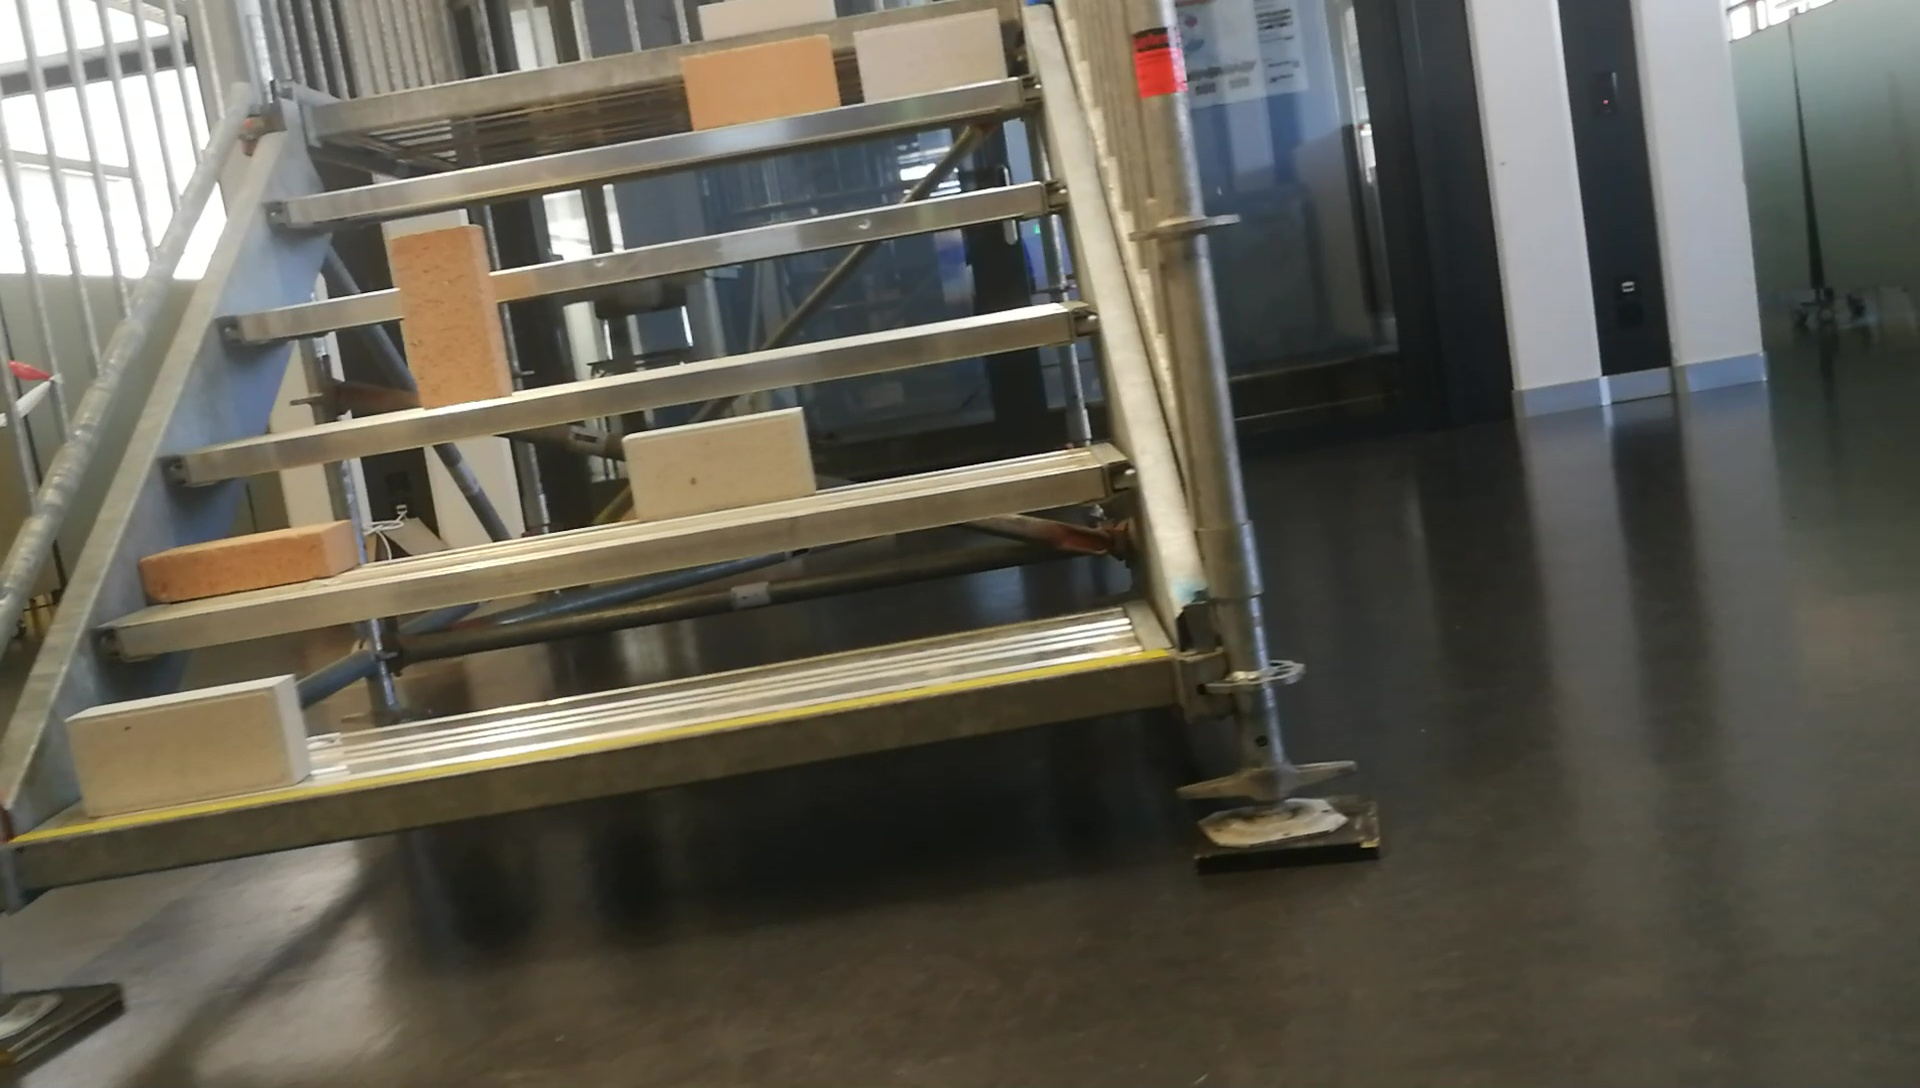brick: (67, 673, 313, 818), (392, 226, 514, 410), (622, 404, 810, 524), (142, 522, 351, 600), (683, 36, 837, 127), (862, 8, 1002, 100), (695, 3, 832, 38)
edge: (12, 655, 1172, 888), (98, 462, 1141, 650), (167, 307, 1100, 477), (218, 181, 1065, 342), (257, 76, 1035, 228), (313, 3, 1001, 131)
stairs: (3, 0, 1387, 1066)
steps: (7, 0, 1185, 909)
